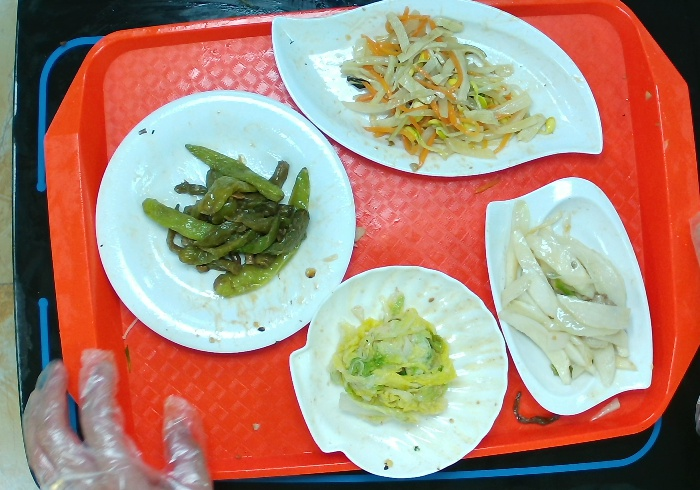RJxy-Bei_Ke_Wan: (286, 260, 514, 481)
RJxy-Jian_Jiao_Fang_Die: (482, 173, 662, 420)
RJxy-Jian_Jiao_Pan: (267, 1, 610, 182)
RJxy-Yuan_Pan: (91, 86, 360, 359)
